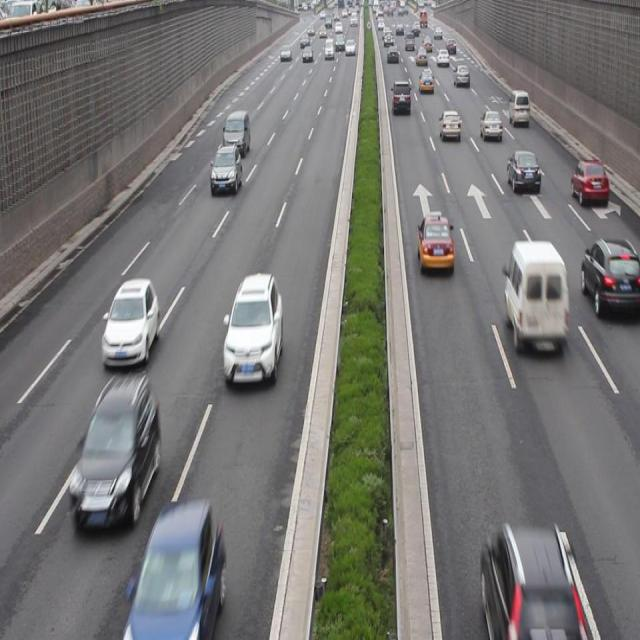car: (70, 375, 158, 528), (129, 507, 226, 640), (477, 522, 577, 630), (225, 274, 281, 388), (100, 280, 159, 367), (580, 237, 640, 321), (417, 212, 453, 277), (568, 158, 608, 208), (210, 144, 242, 196), (505, 150, 538, 193), (479, 108, 500, 142), (439, 110, 460, 142)
truck: (502, 238, 567, 358), (222, 112, 250, 155), (507, 92, 528, 124)
